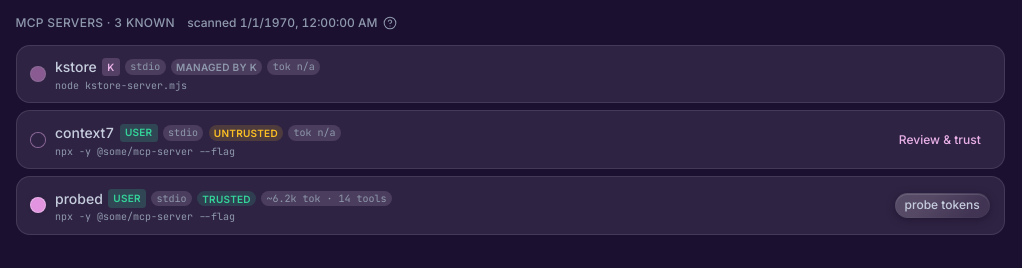
Scenario: McpTab — trust gating › a toggle rejection (the trust-gate 400 shape) surfaces in-row
Click the switch with test id "mcp-toggle-user:probed" at (38, 205), box [30, 198, 44, 212]
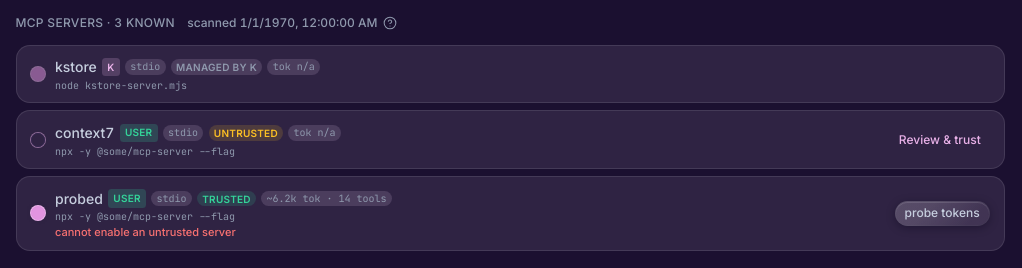
Check: the text with test id "mcp-toggle-error-user:probed" reads "cannot enable an untrusted server", box [55, 225, 236, 239]
